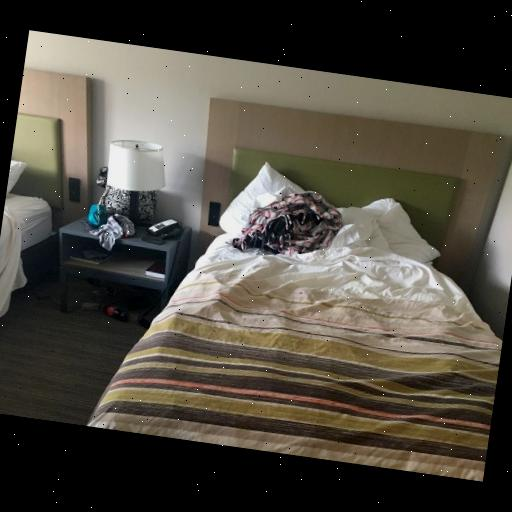Disorganized_pillow: (219, 161, 435, 257)
lamp: (96, 134, 164, 240)
mess: (74, 214, 142, 252)
messy_bed: (85, 97, 512, 481)
